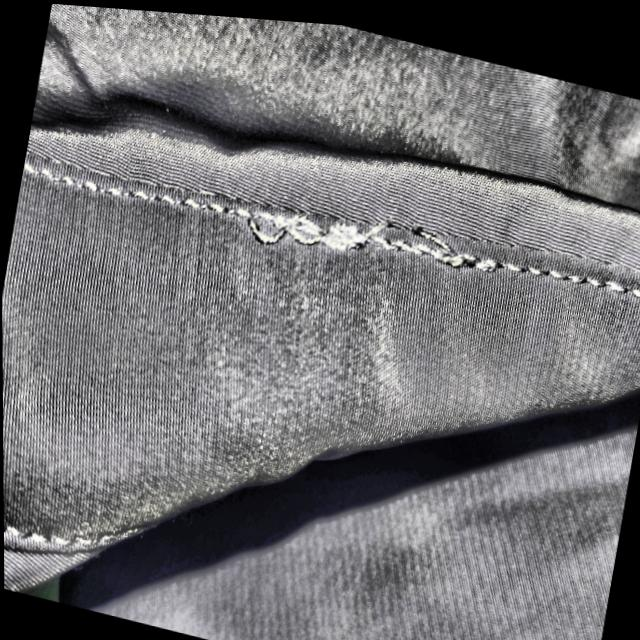Stitch: (201, 166, 526, 303)
